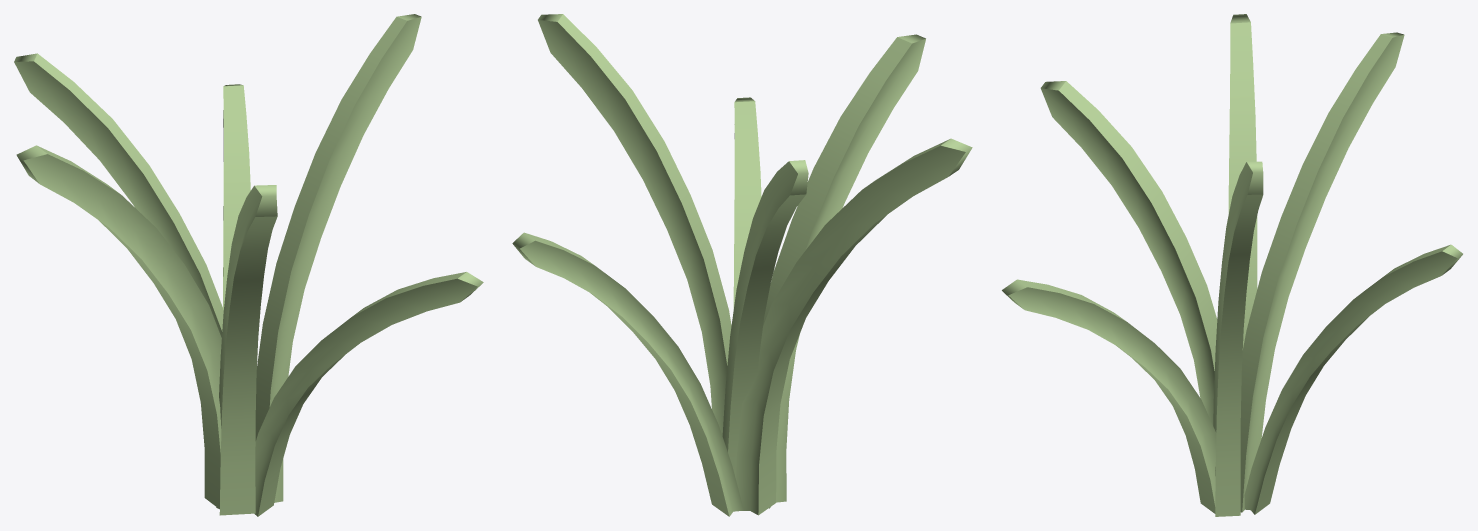
The model's file is grass1.fbx.
3 views of the same model, side by side, from view 1: azimuth 30°, elevation 25°; view 2: azimuth 150°, elevation 25°; view 3: azimuth 270°, elevation 25° (orthographic). The views are drawn at different scales.
Parts seen in each view (by area): view 1: pCube25, pCube21, pCube23, pCube27, pCube24, pCube26; view 2: pCube21, pCube25, pCube23, pCube26, pCube27, pCube24; view 3: pCube27, pCube23, pCube25, pCube24, pCube26, pCube21.
Part boxes in pixels (bbox=[...]): pCube25: bbox=[255, 14, 421, 502]; pCube21: bbox=[16, 145, 221, 509]; pCube23: bbox=[216, 185, 277, 515]; pCube27: bbox=[14, 53, 223, 337]; pCube24: bbox=[254, 272, 483, 516]; pCube26: bbox=[223, 84, 250, 309]; pCube21: bbox=[736, 138, 972, 515]; pCube25: bbox=[538, 14, 731, 435]; pCube23: bbox=[763, 34, 925, 508]; pCube26: bbox=[512, 232, 743, 516]; pCube27: bbox=[722, 160, 808, 479]; pCube24: bbox=[733, 97, 761, 308]; pCube27: bbox=[1240, 32, 1404, 512]; pCube23: bbox=[1040, 81, 1217, 425]; pCube25: bbox=[1213, 161, 1263, 516]; pCube24: bbox=[1002, 279, 1216, 513]; pCube26: bbox=[1244, 244, 1462, 514]; pCube21: bbox=[1228, 14, 1257, 349].
Bounding box in the file's own units: 1.26 × 1.29 × 1.27.
